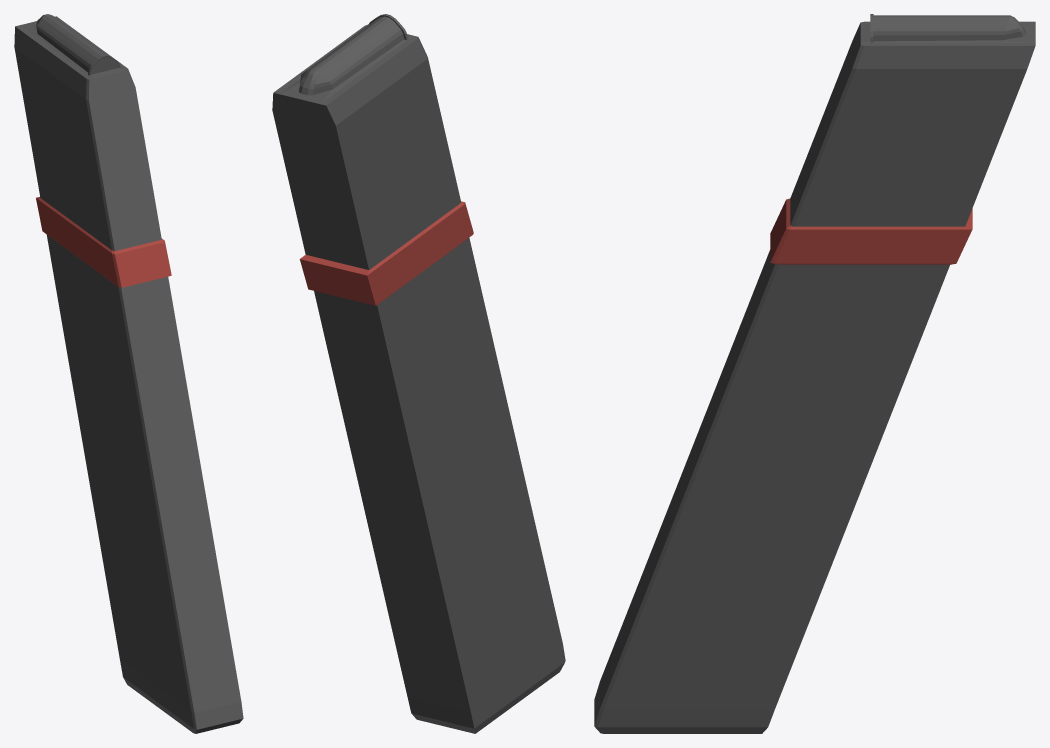
The model's file is Handgun_Ammo.fbx.
3 renders of one model, left to right at view 1: azimuth 30°, elevation 25°; view 2: azimuth 150°, elevation 25°; view 3: azimuth 270°, elevation 25°, orthographic. The views are drawn at different scales.
Visible parts, largest first — view 1: Cube; view 2: Cube; view 3: Cube.
Boxes of the visible parts, x1,y1,x2,y2 form: Cube: [14, 14, 243, 733]; Cube: [272, 14, 565, 733]; Cube: [594, 14, 1035, 733].
Bounding box in the file's own units: 20.36 × 217 × 123.
